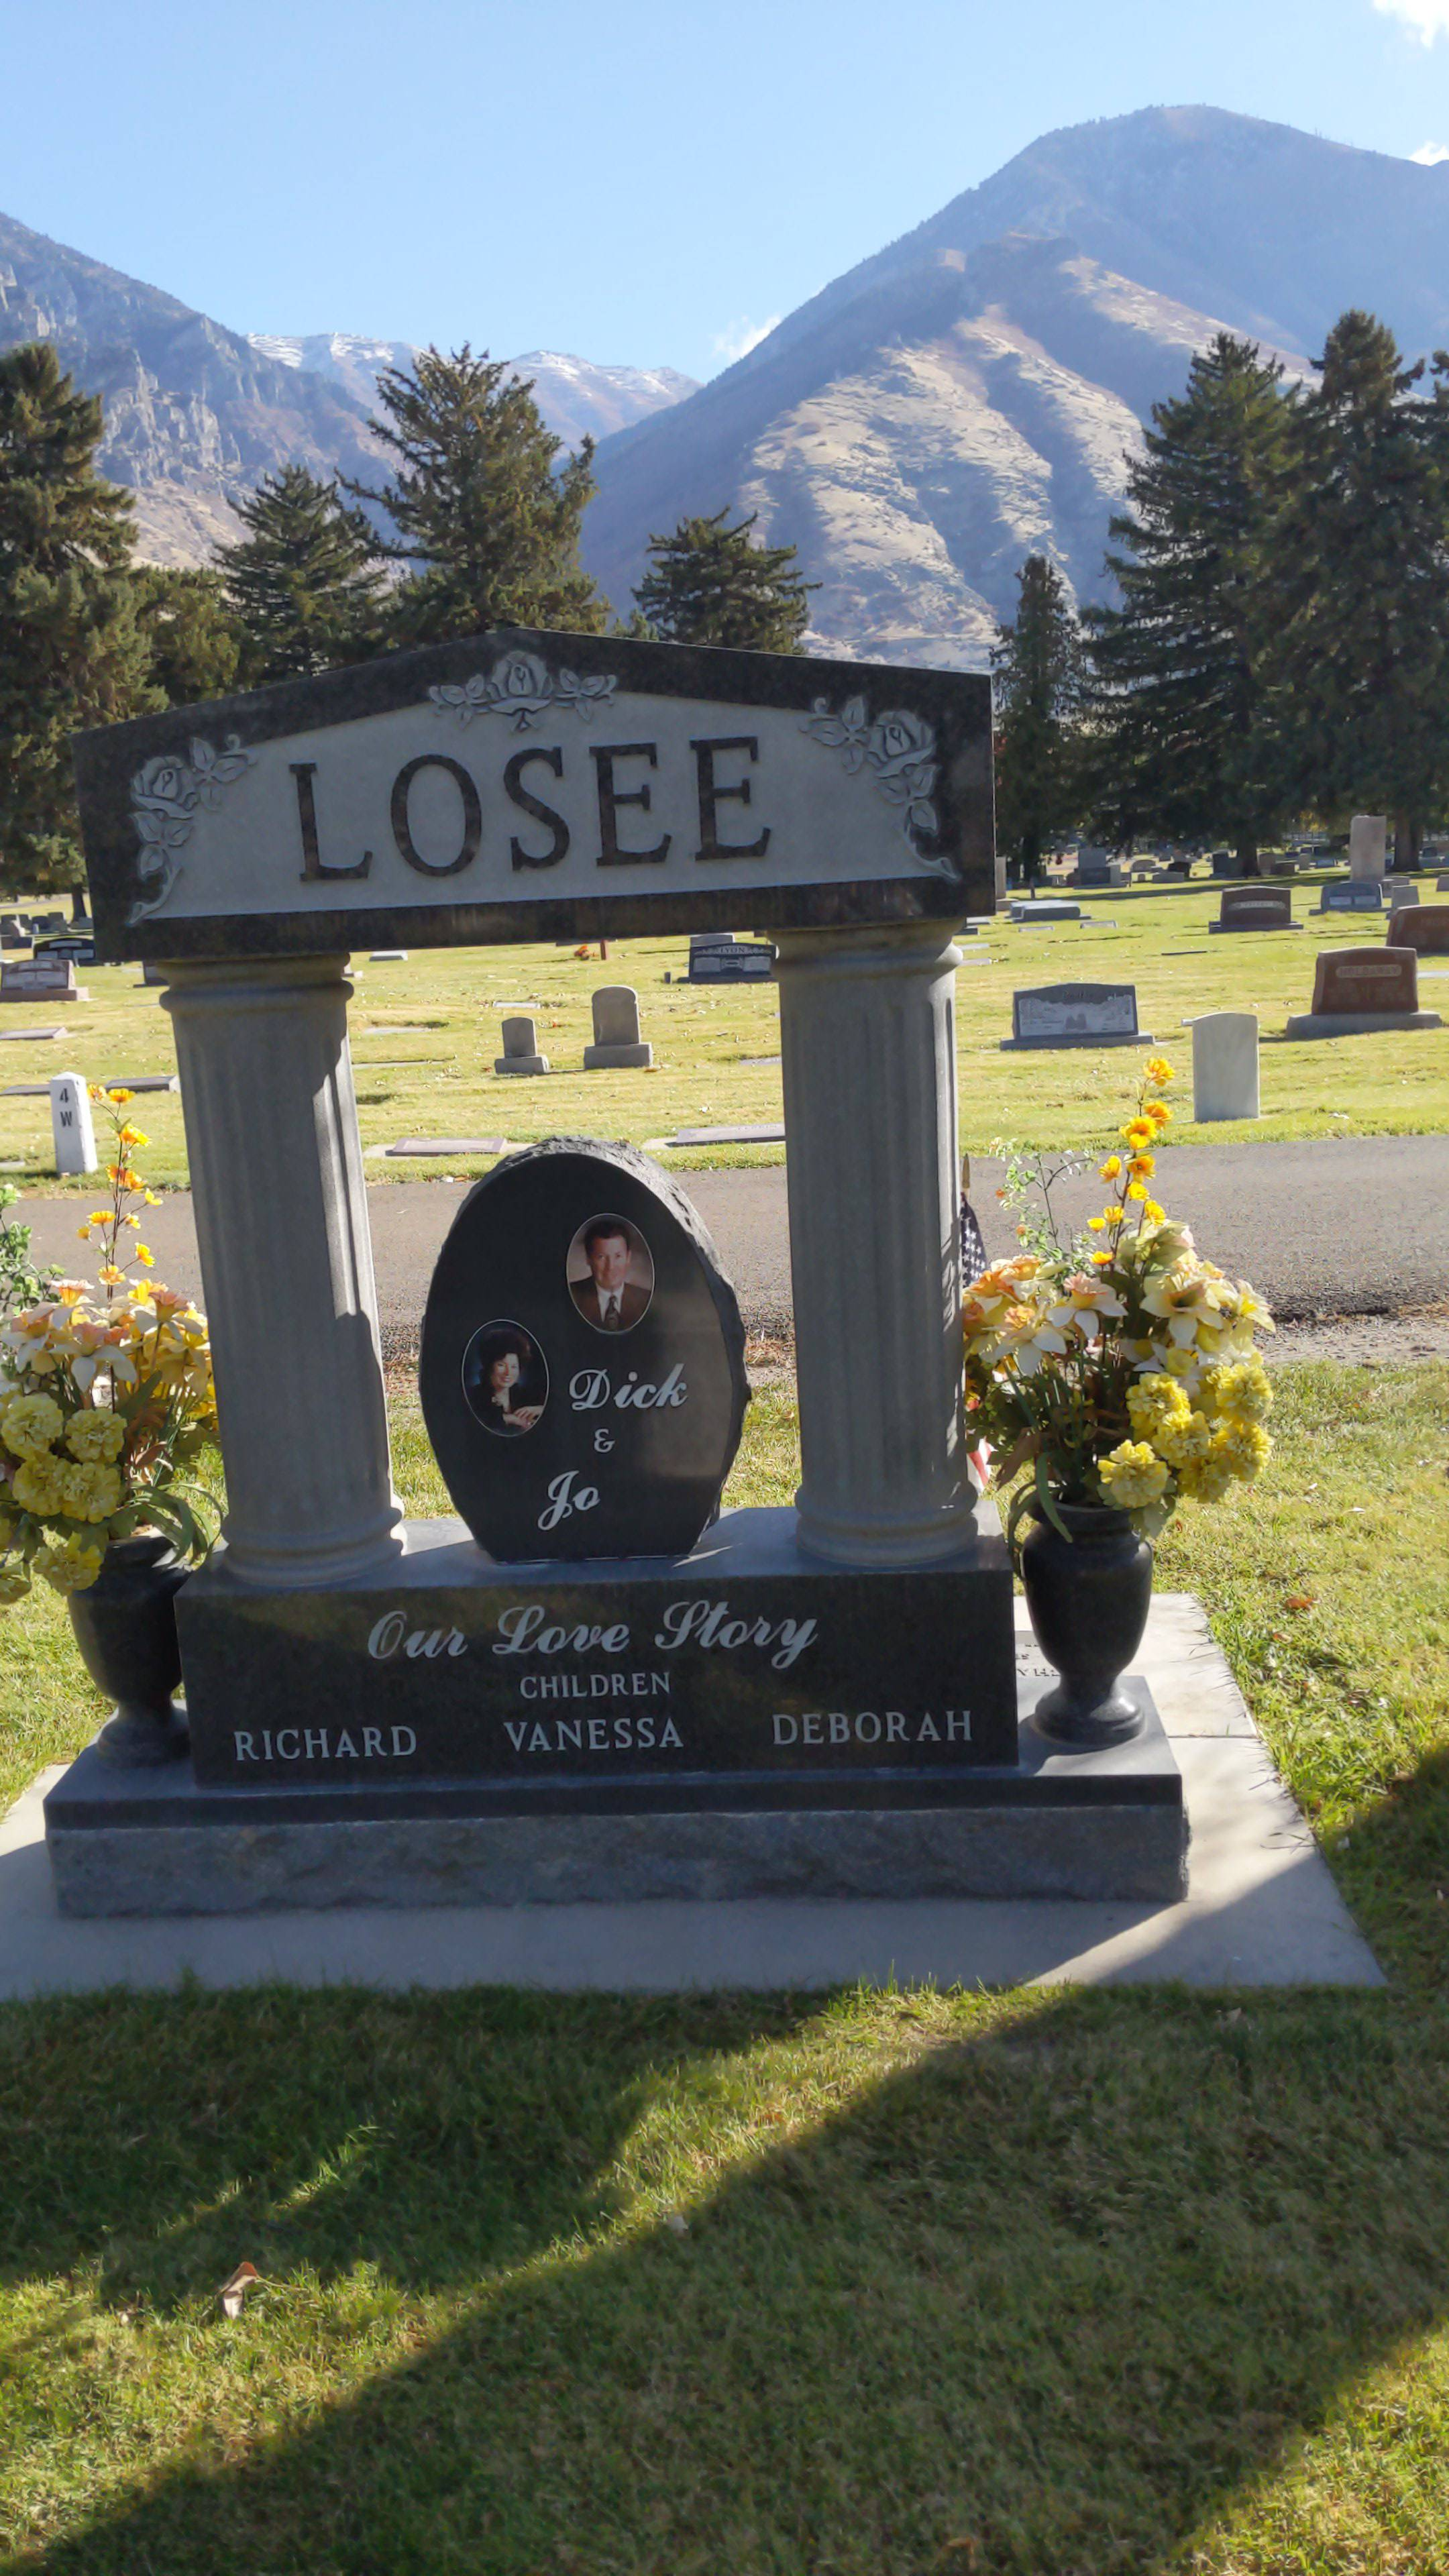statue: (71, 619, 1014, 1760)
